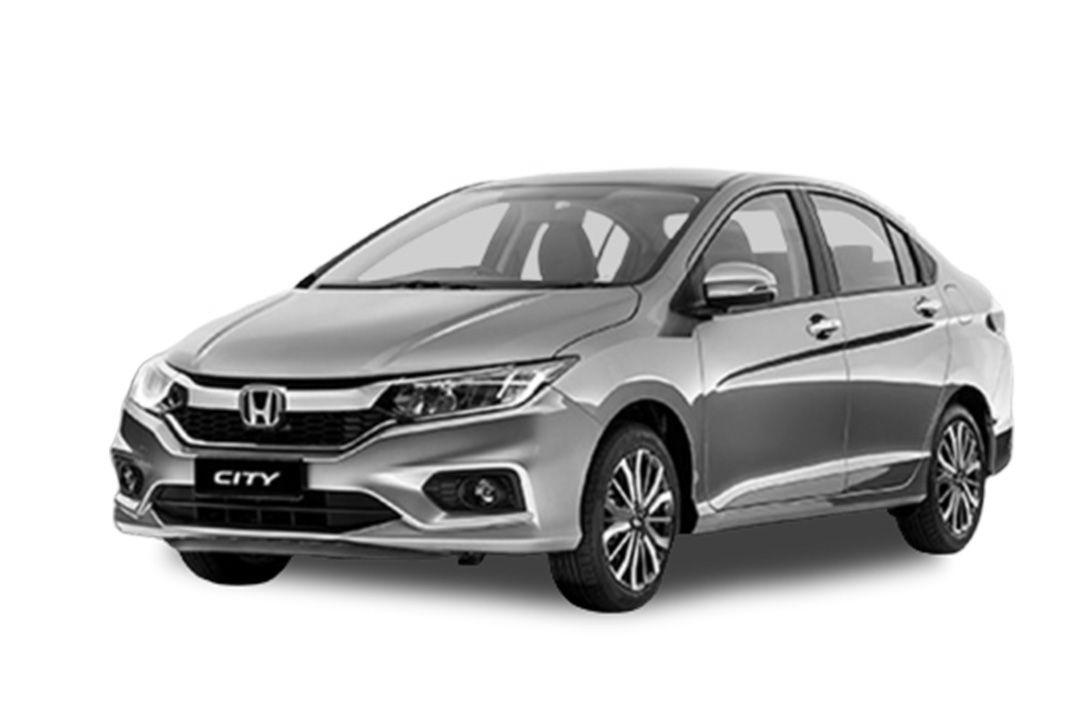Car hood: (162, 277, 645, 384)
Fender - -F-L-: (551, 279, 702, 517)
Fender - -R-L-: (915, 283, 1001, 500)
Front bumper: (99, 386, 612, 569)
Headlight - -L-: (372, 349, 587, 434)
Headlight - -R-: (117, 349, 197, 425)
Passenger-s door - -F-L-: (702, 177, 850, 520)
Passenger-s door - -R-L-: (809, 175, 952, 507)
Rear bumper: (980, 361, 1026, 478)
Rear light - -L-: (978, 293, 1018, 343)
Side bumper - -L-: (674, 454, 937, 540)
Side mirror - -L-: (681, 250, 786, 324)
